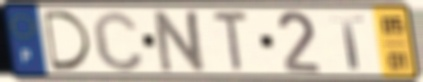2: (277, 9, 323, 75)
C: (89, 8, 147, 74)
D: (40, 8, 95, 72)
N: (152, 8, 210, 74)
T: (210, 9, 252, 74), (328, 13, 367, 71)
